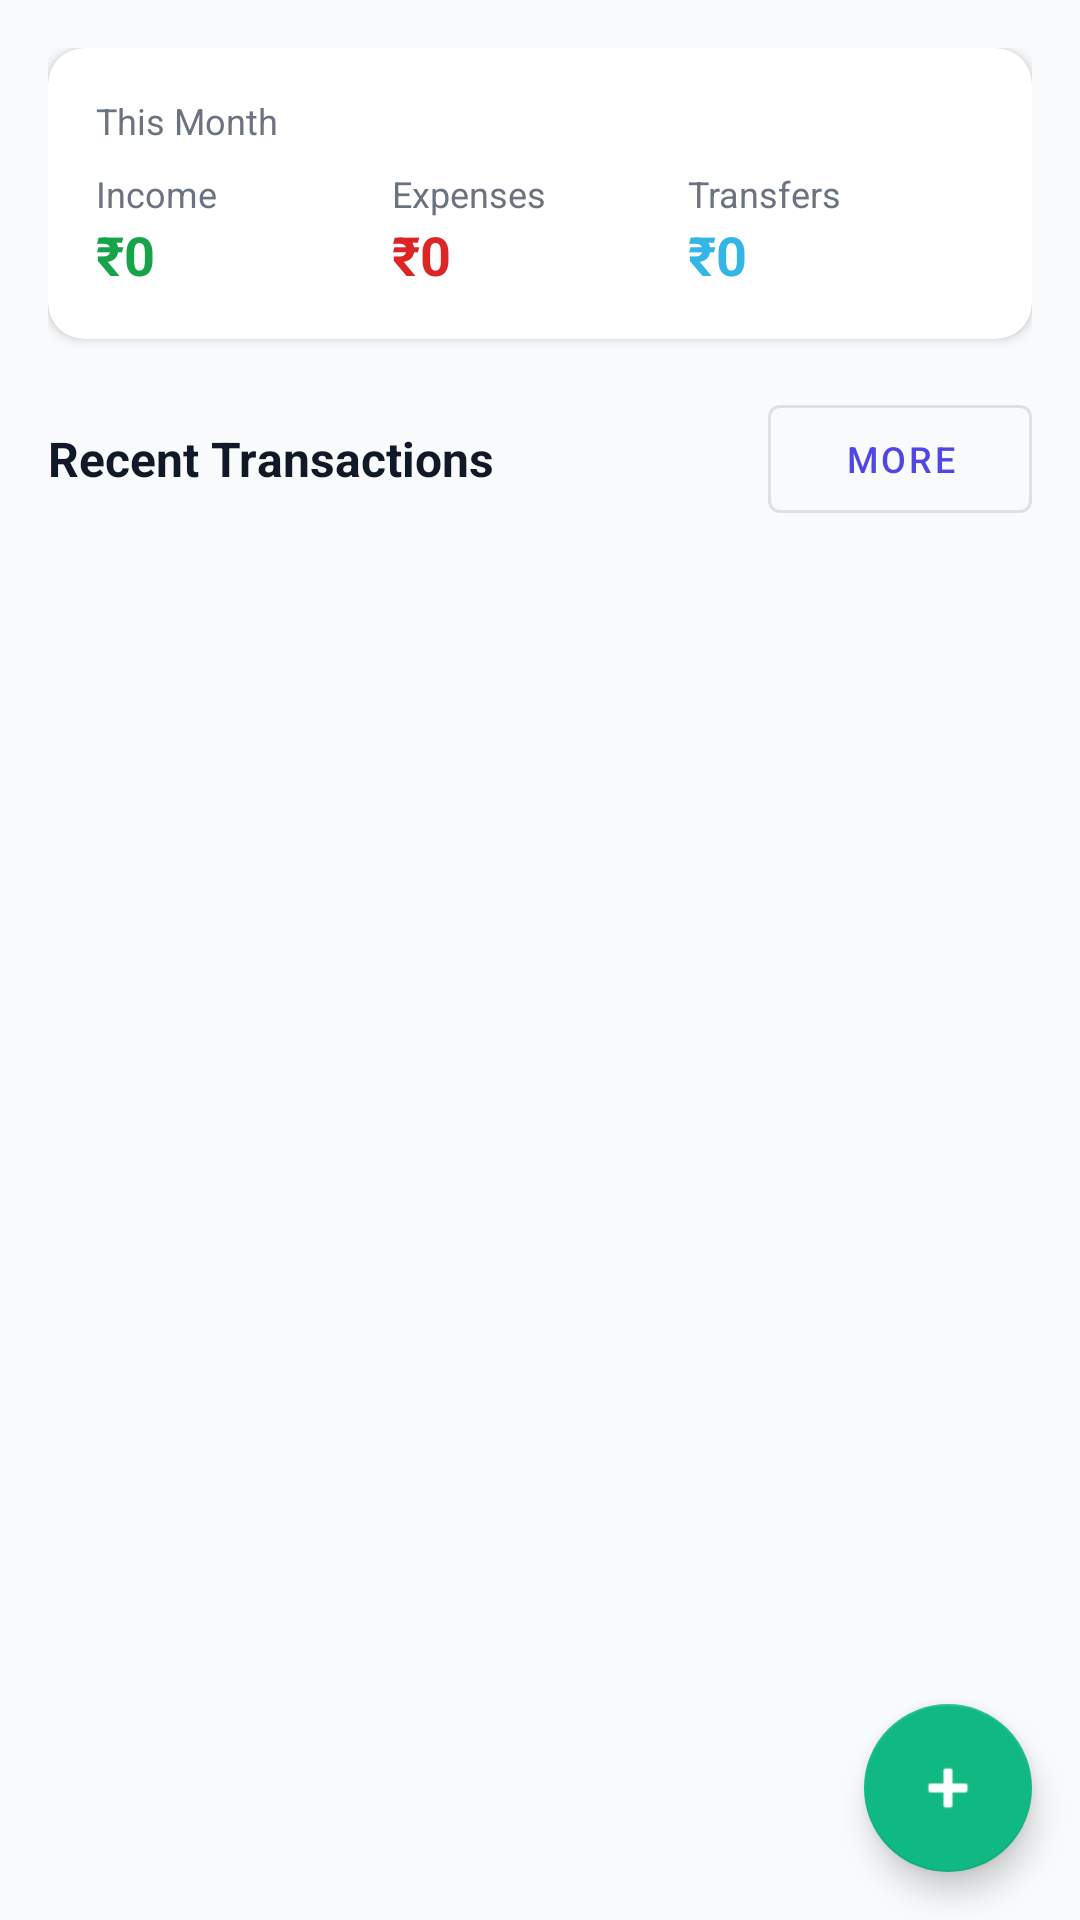

Icons on this 1080px×1920px Android screen, each with the point to tap as (x,y):
Add transaction: (948,1788)
